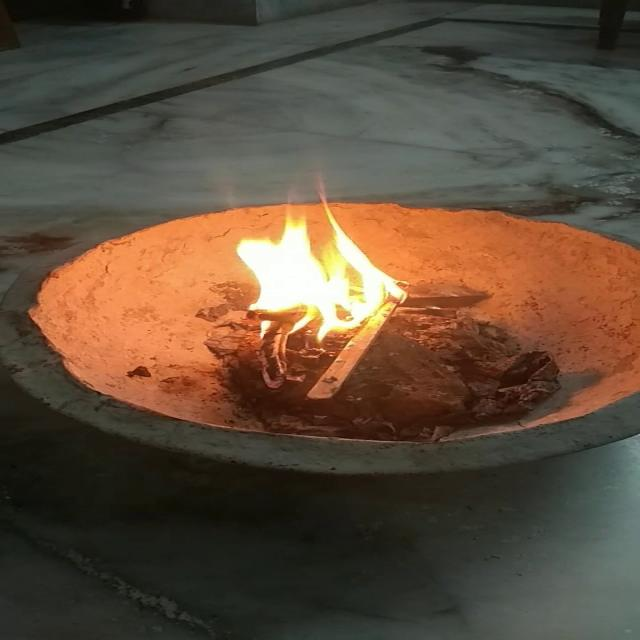fire: (219, 201, 448, 349)
